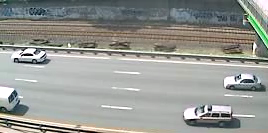car: (181, 103, 235, 128), (222, 73, 264, 94), (10, 47, 51, 67)
